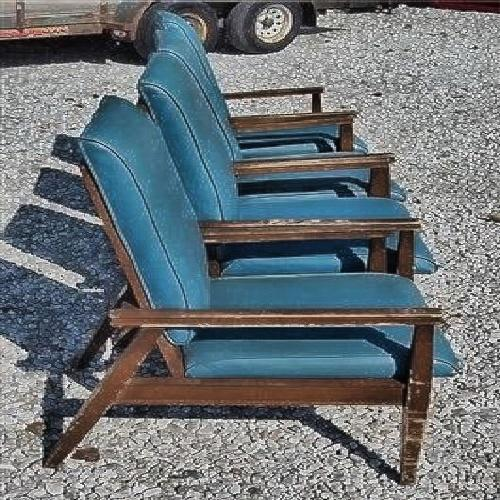chair: (73, 97, 449, 450), (133, 51, 414, 262), (152, 20, 387, 151)
